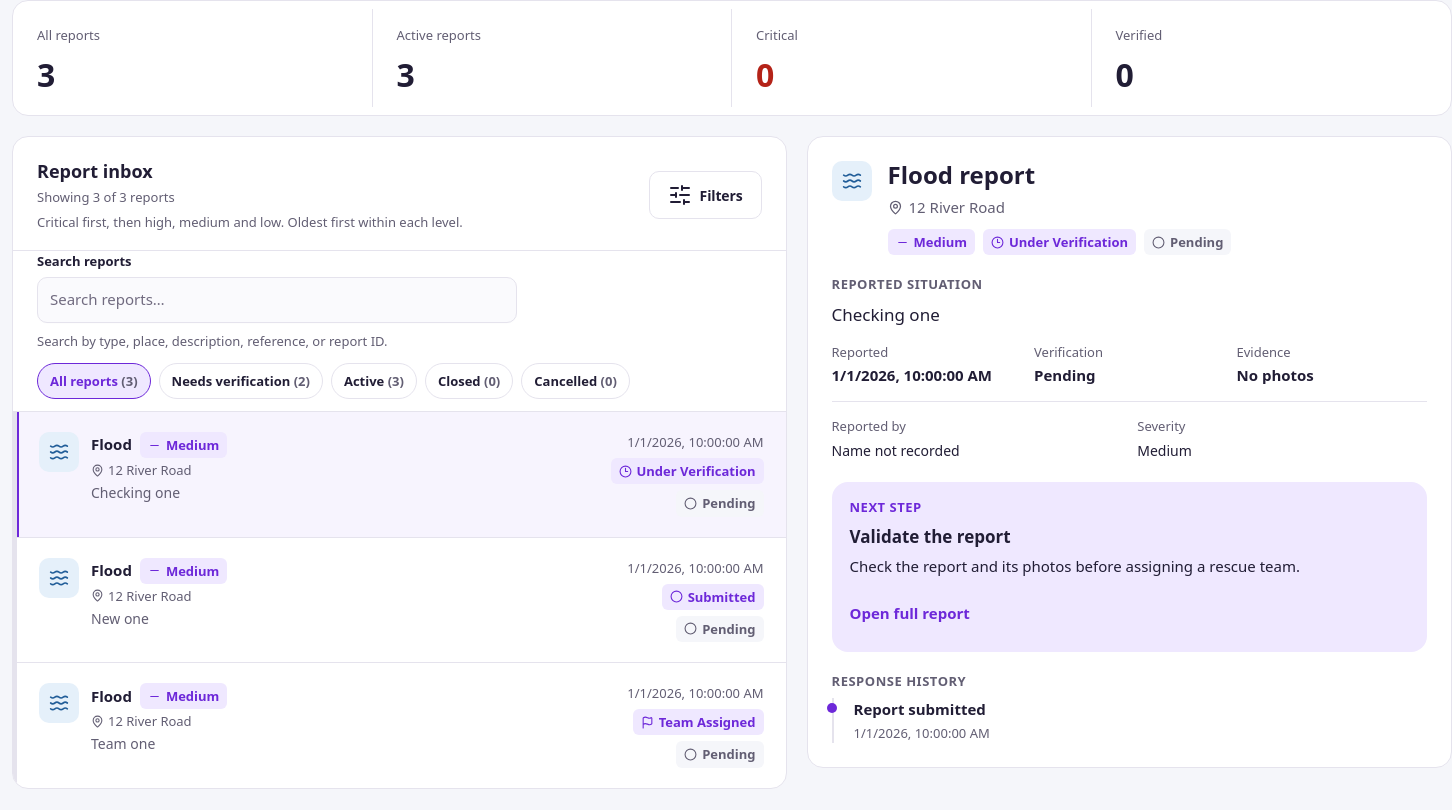
Test: ReportQueue › Needs verification quick view shows only submitted or under-verification reports
Click the button "Needs verification (2)": click(241, 381) [159,363,323,399]
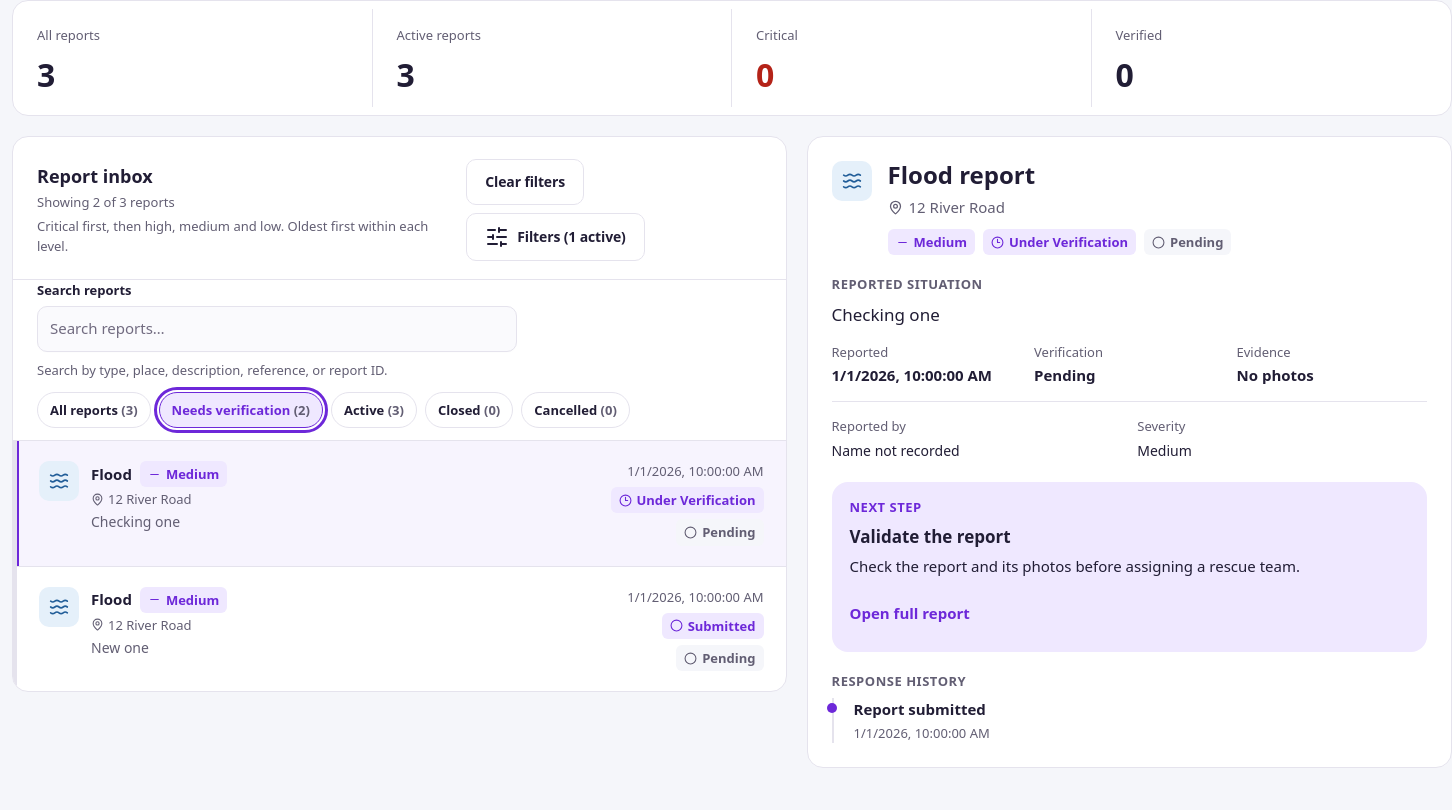
Expected: the text "New one" is shown, [91,638,149,657]
Now the button "Team one" is gone
